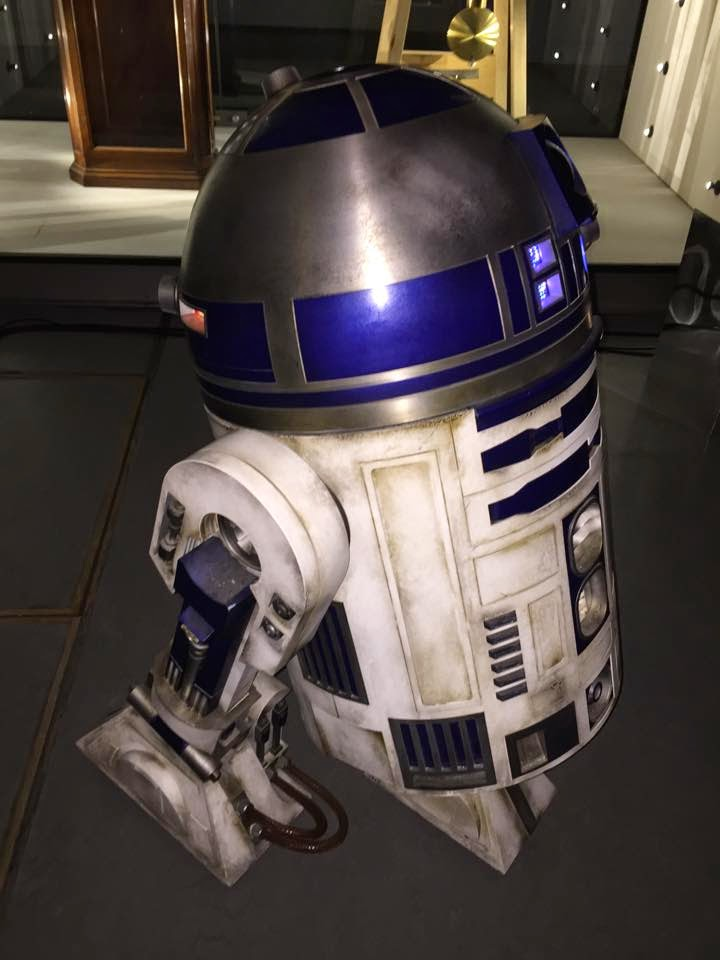r2d2: (76, 61, 626, 891)
